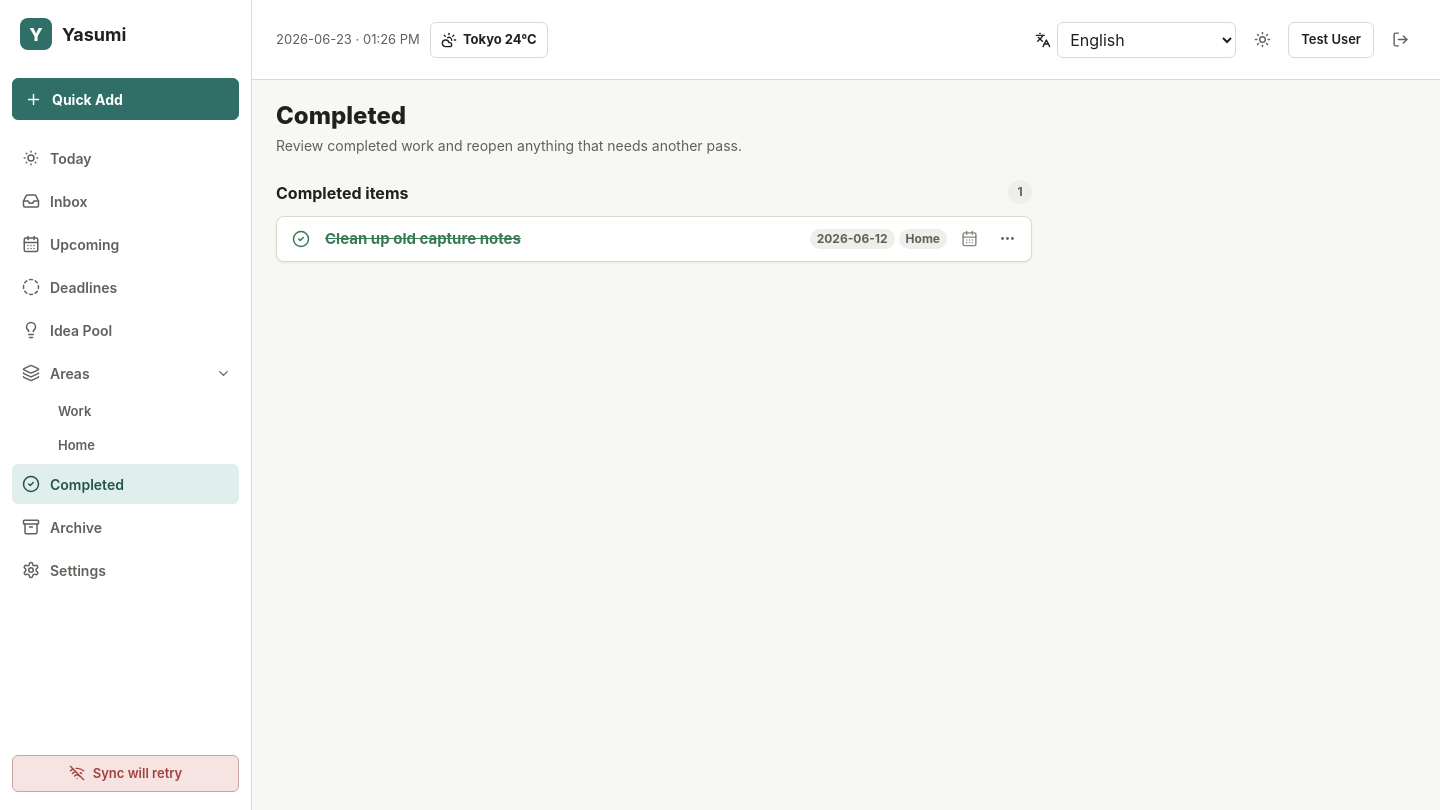
Scenario: phase 04 pages and action surfaces › shows state-specific item actions from one shared path
The image size is (1440, 810).
Expected: the text "Clean up old capture notes" is shown, [325,229,521,249]
Expected: the button named "Reopen" is shown, [285,223,317,255]
Click the button named "More actions" at (1007, 239), box [991,223,1023,255]
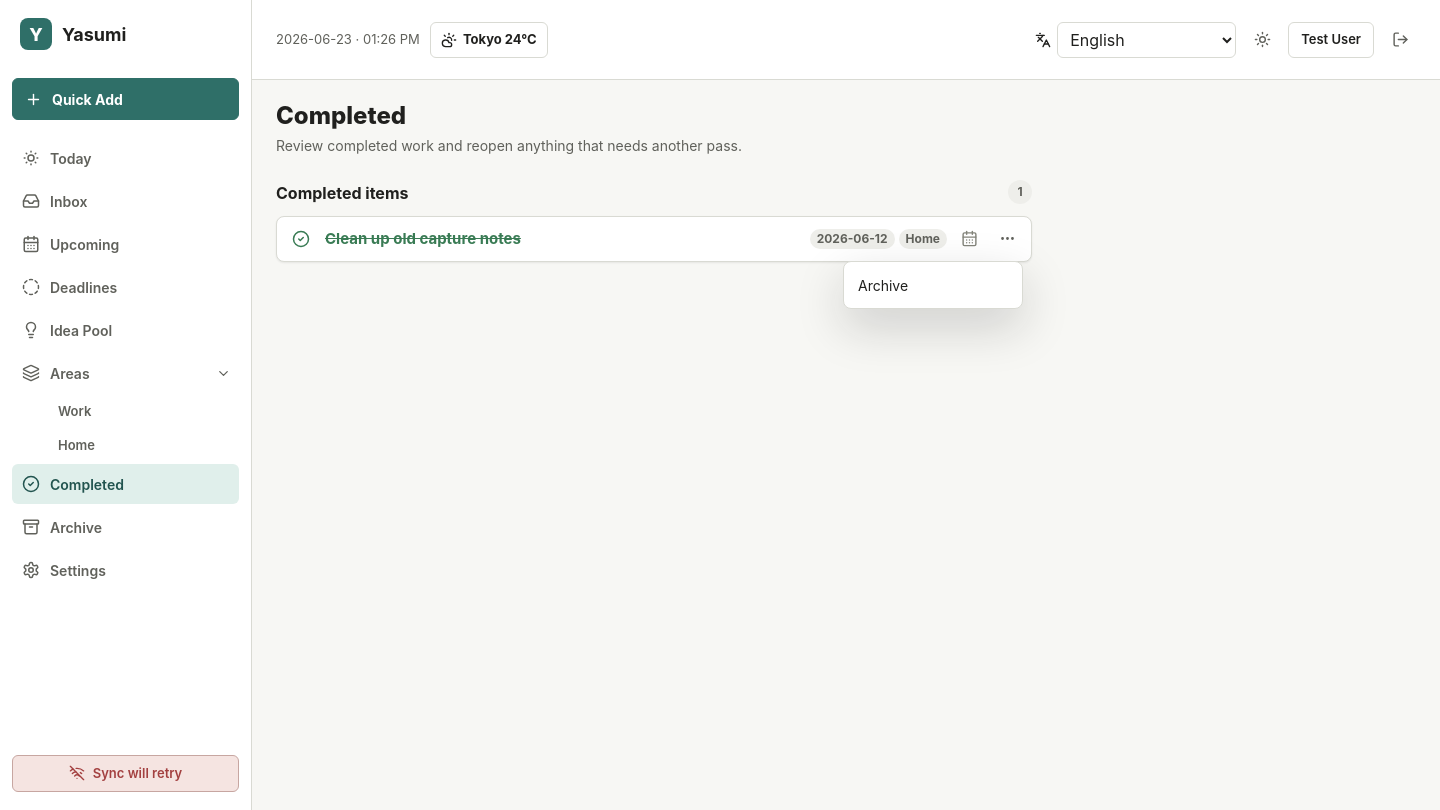
Expected: the menu item "Archive" is shown, [858,276,908,294]
